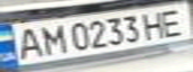0: (66, 19, 90, 52)
2: (87, 17, 109, 50)
3: (121, 11, 145, 44), (106, 15, 127, 46)
A: (9, 25, 45, 60)
E: (154, 4, 193, 38)
H: (139, 8, 172, 39)
M: (36, 21, 69, 55)
